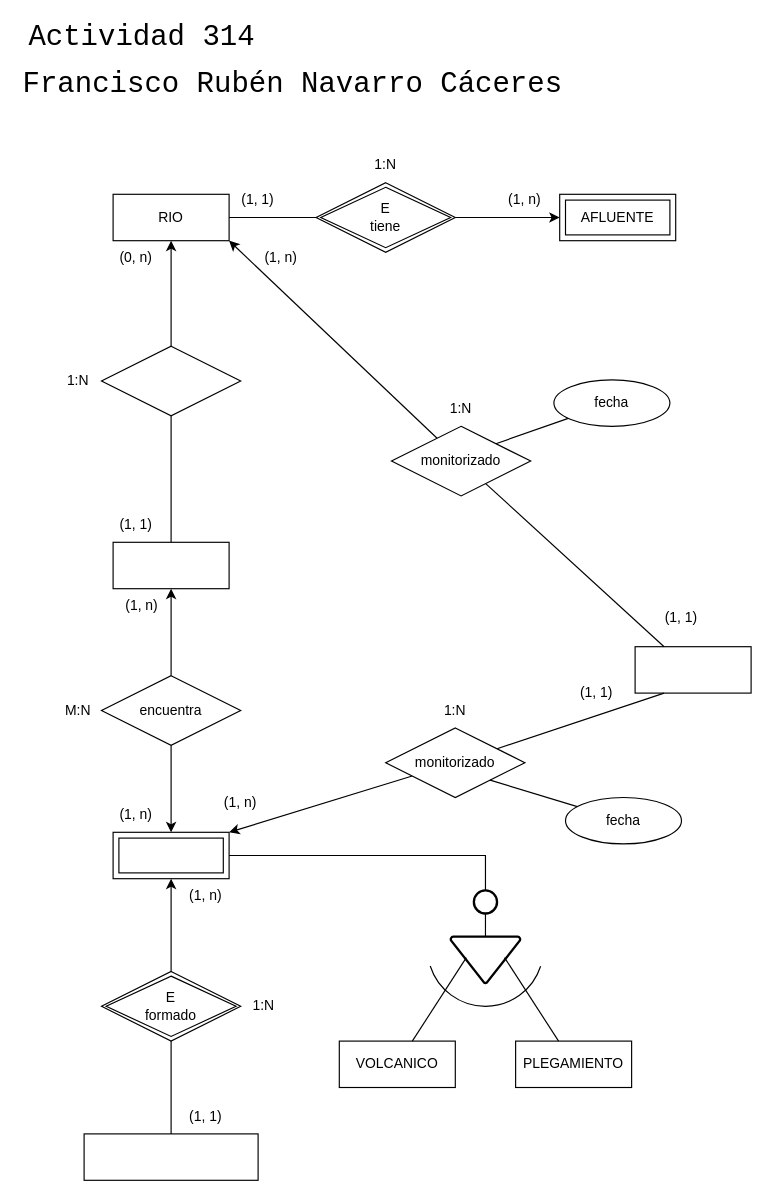
Some shapes in this 771 by 1201 pixel diagram are drawn without their labels. Each missing label, with the centre of its shape:
MONTE: (170,855)
pasa: (170,380)
PROVINCIA: (170,565)
SATELITE: (692,669)
SISTEMA_MONTAÑOSO: (170,1156)
